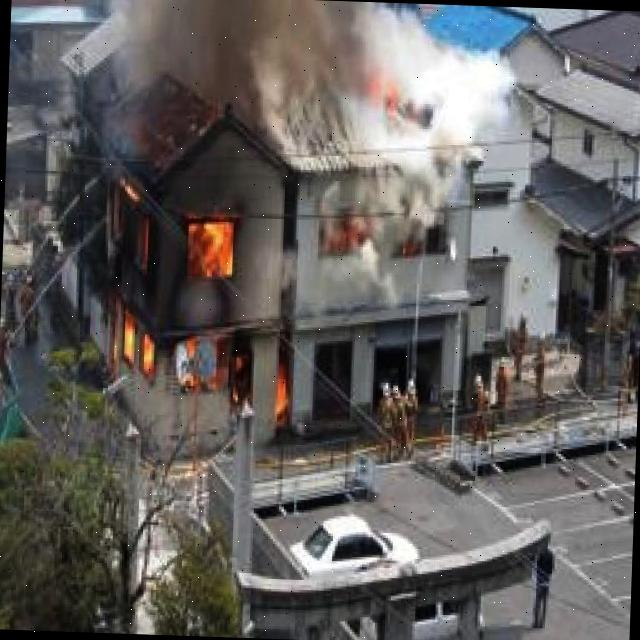fire: (73, 172, 305, 432)
